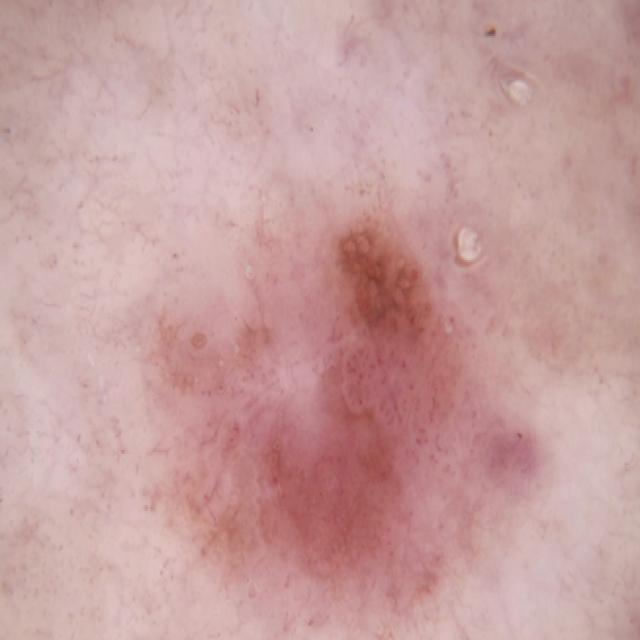Dermatofibroma: (131, 209, 572, 632)
